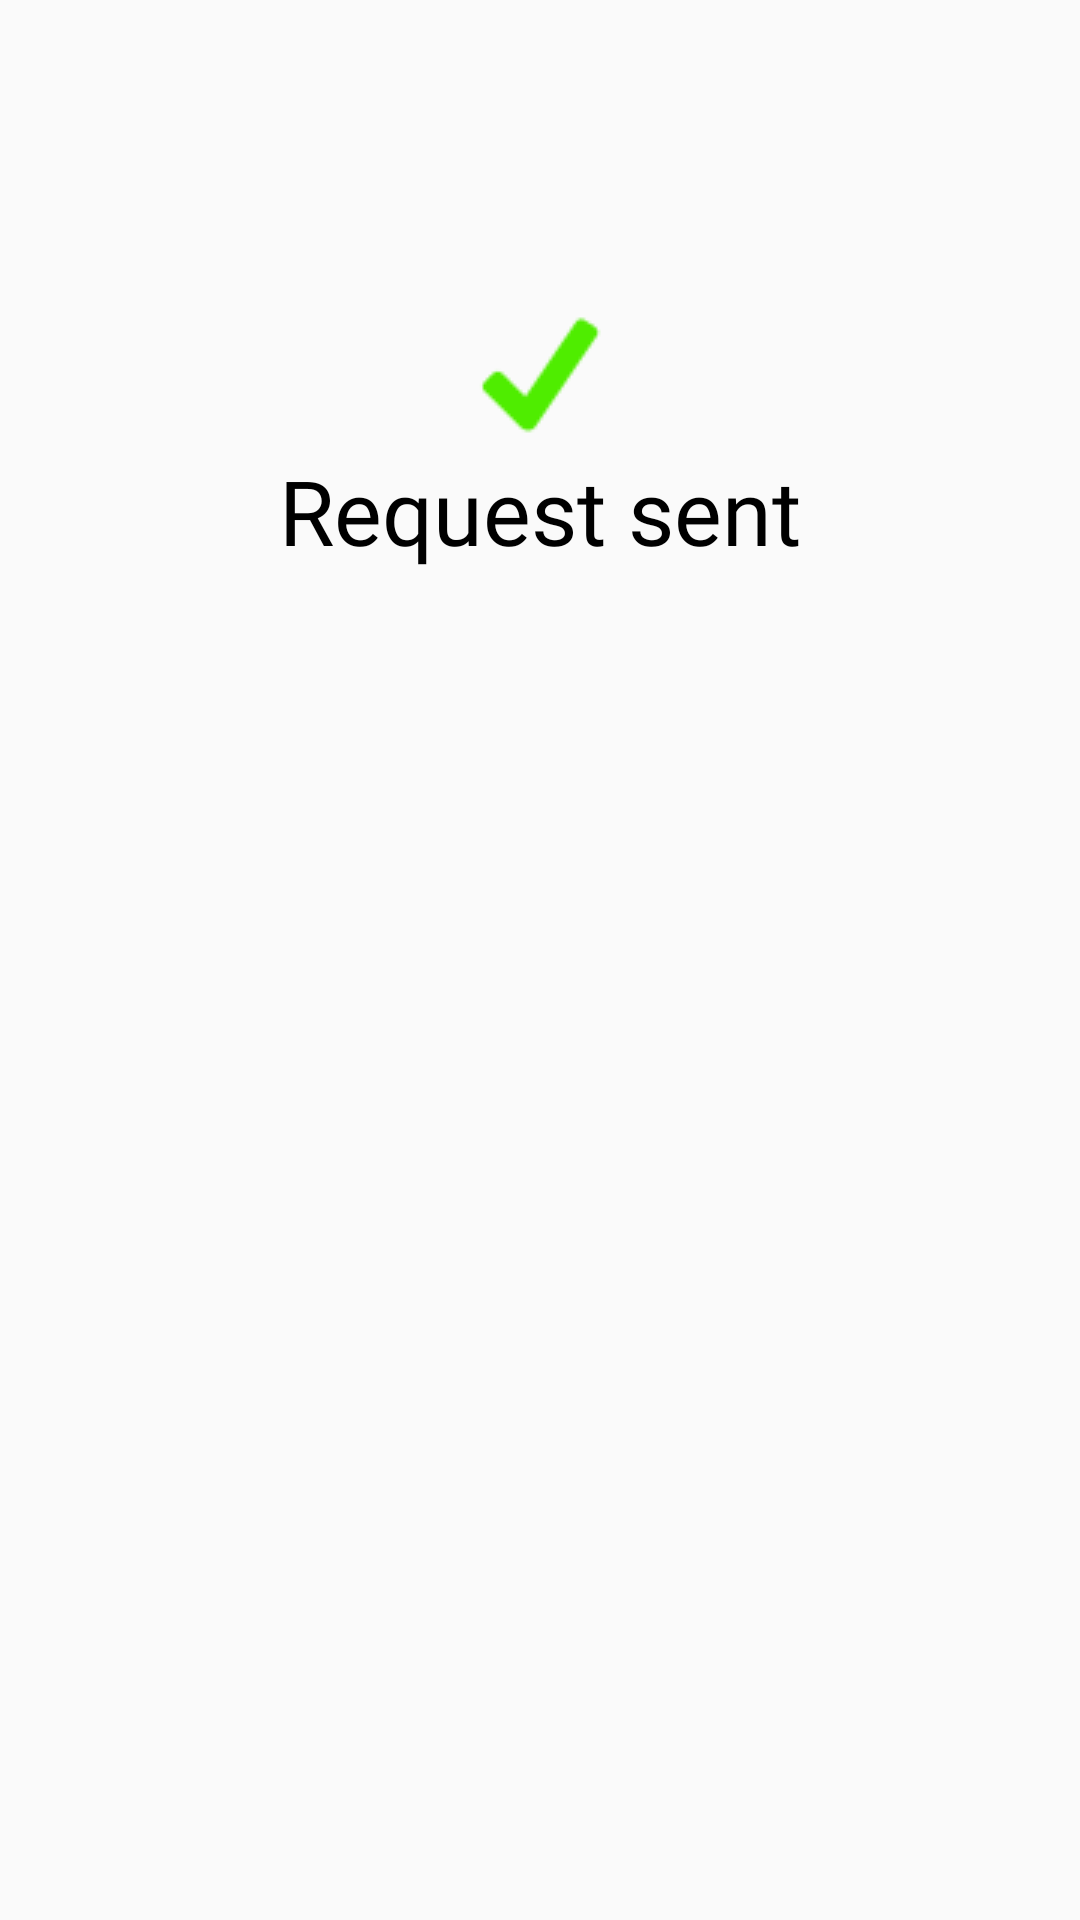

Where icons sit on this 1080×1920 app screen, as (x1, y1, x2, y2):
check: (482, 317, 600, 433)
